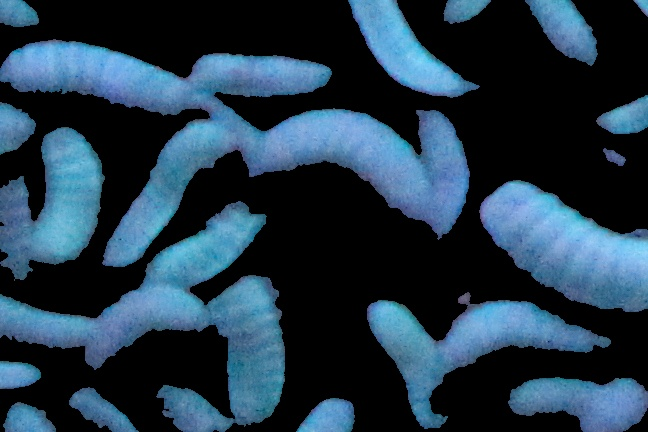larvae: (483, 180, 648, 310), (105, 124, 236, 264), (245, 112, 428, 212), (1, 40, 193, 112), (341, 1, 469, 94), (442, 299, 613, 367), (366, 300, 445, 432), (211, 280, 286, 418), (34, 124, 107, 265), (86, 286, 213, 367), (147, 204, 263, 287), (416, 106, 471, 239), (194, 54, 331, 99), (1, 153, 46, 284), (529, 1, 613, 70), (1, 293, 91, 350), (512, 376, 603, 425), (1, 352, 52, 395), (592, 96, 648, 134)
